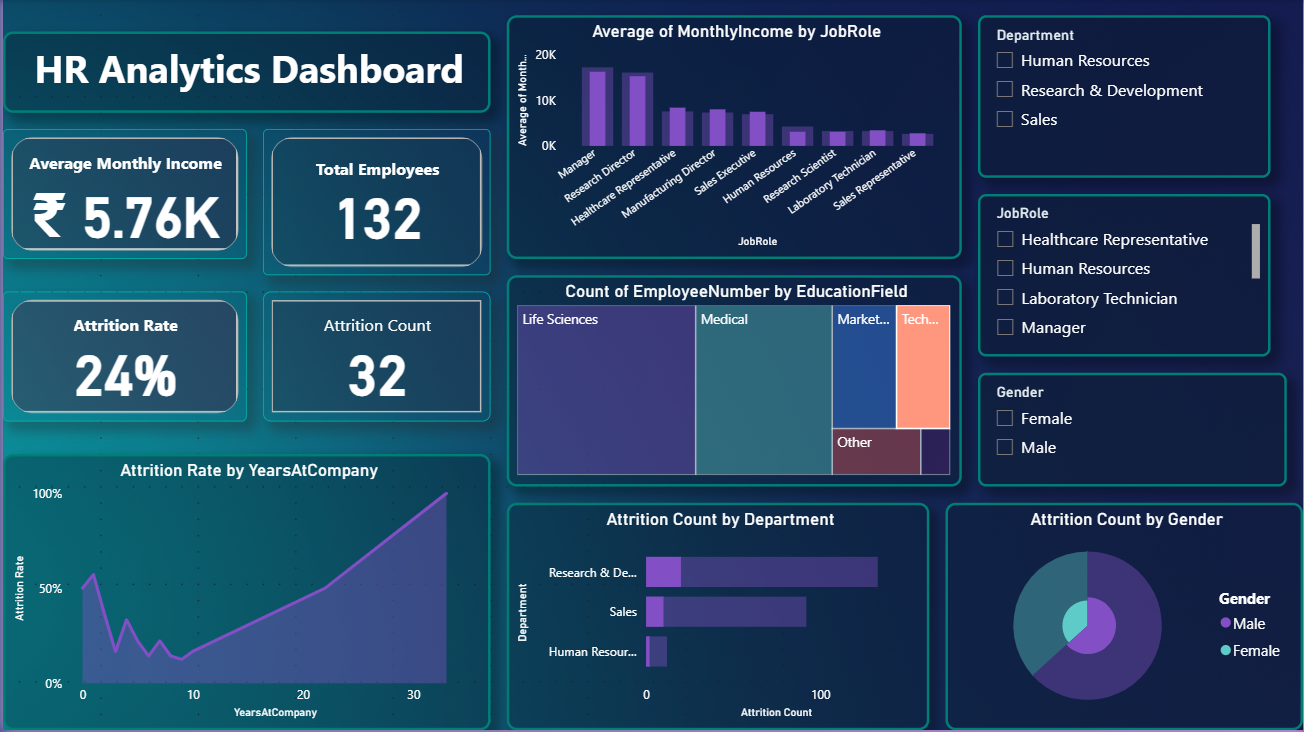

The dashboard page shown, as its layout file describes it:
{"tool":"powerbi","page":{"name":"Page 1","canvas":[1280,720],"ordinal":0},"visuals":[{"type":"cardVisual","fields":{"Data":["HR data.Total Employees"]},"box":[256,128,224,144],"z":0},{"type":"cardVisual","fields":{"Data":["HR data.Attrition Rate"]},"box":[0,288,240,128],"z":1000},{"type":"cardVisual","fields":{"Data":["HR data.Average Monthly Income"]},"box":[0,128,240,128],"z":2000},{"type":"clusteredBarChart","fields":{"Category":["HR data.Department"],"Y":["HR data.Attrition Count"]},"box":[496,496,416,224],"z":3000},{"type":"pieChart","fields":{"Category":["HR data.Gender"],"Y":["HR data.Attrition Count"]},"box":[928,496,352,224],"z":4000},{"type":"clusteredColumnChart","fields":{"Category":["HR data.JobRole"],"Y":["Avg(HR data.MonthlyIncome)"]},"box":[496,16,448,240],"z":5000},{"type":"areaChart","fields":{"Y":["HR data.Attrition Rate"],"Category":["HR data.YearsAtCompany"]},"box":[0,448,480,272],"z":6000},{"type":"donutChart","fields":{"Category":["HR data.EducationField"],"Y":["CountNonNull(HR data.EmployeeNumber)"]},"box":[496,272,448,208],"z":7000},{"type":"slicer","fields":{"Values":["HR data.Department"]},"box":[960,16,288,160],"z":8000},{"type":"textbox","box":[0,32,480,80],"z":9000},{"type":"cardVisual","fields":{"Data":["HR data.Attrition Count"]},"box":[256,288,224,128],"z":10000},{"type":"slicer","fields":{"Values":["HR data.JobRole"]},"box":[960,192,288,160],"z":11000},{"type":"slicer","fields":{"Values":["HR data.Gender"]},"box":[960,368,304,112],"z":12000}]}

Visuals, with their boxes in screenshot pixels (x1, y1, x2, y2), scaled from the page's 1280x720 canvas onto the 1304x732 screenshot:
cardVisual - HR data.Total Employees: bbox=(261, 130, 489, 277)
cardVisual - HR data.Attrition Rate: bbox=(0, 293, 244, 423)
cardVisual - HR data.Average Monthly Income: bbox=(0, 130, 244, 260)
clusteredBarChart - HR data.Department x HR data.Attrition Count: bbox=(505, 504, 929, 731)
pieChart - HR data.Gender x HR data.Attrition Count: bbox=(945, 504, 1303, 731)
clusteredColumnChart - HR data.JobRole x Avg(HR data.MonthlyIncome): bbox=(505, 16, 962, 260)
areaChart - HR data.Attrition Rate x HR data.YearsAtCompany: bbox=(0, 455, 489, 731)
donutChart - HR data.EducationField x CountNonNull(HR data.EmployeeNumber): bbox=(505, 277, 962, 488)
slicer - HR data.Department: bbox=(978, 16, 1271, 179)
textbox: bbox=(0, 33, 489, 114)
cardVisual - HR data.Attrition Count: bbox=(261, 293, 489, 423)
slicer - HR data.JobRole: bbox=(978, 195, 1271, 358)
slicer - HR data.Gender: bbox=(978, 374, 1288, 488)
